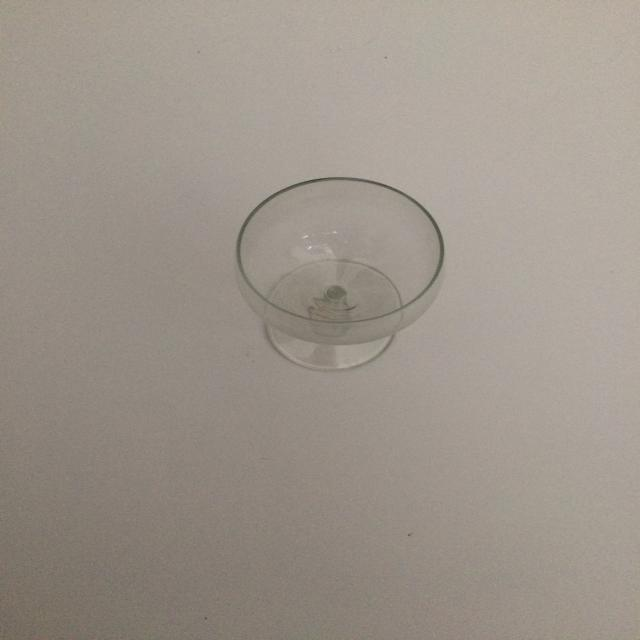glass: (220, 168, 460, 380)
